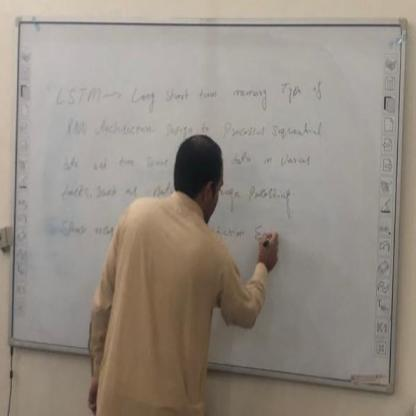Handwritten text: (57, 72, 328, 118), (53, 212, 126, 245)
Whiteboard: (5, 10, 404, 394)
